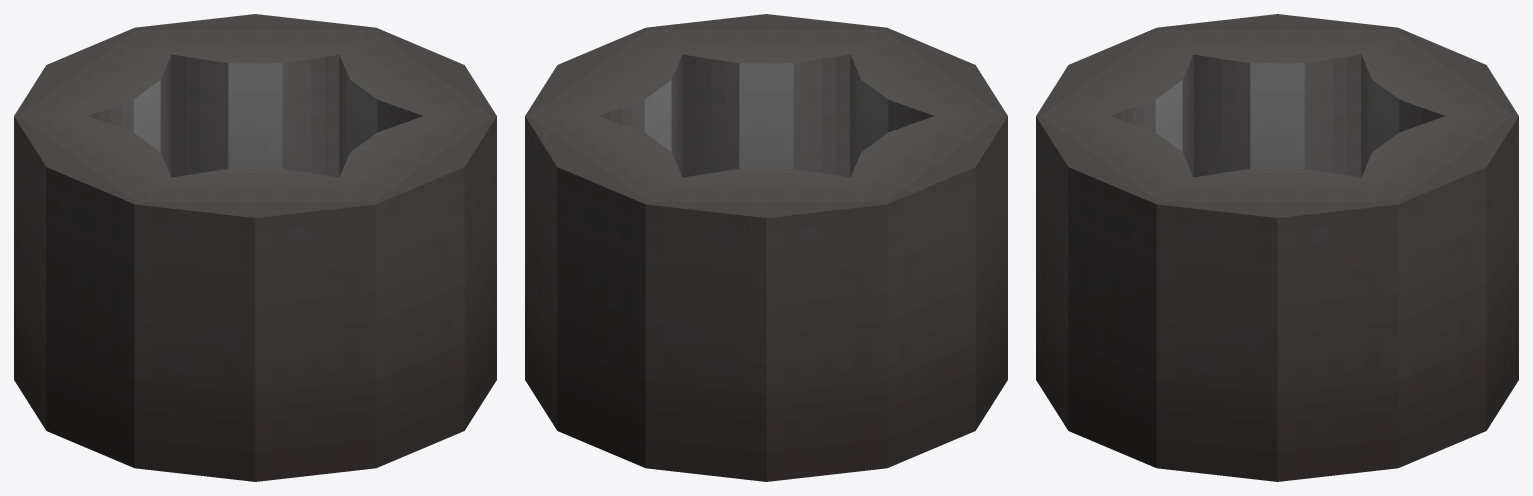
Rendered from rotary_disk.obj.
3 views of the same model, side by side, from view 1: azimuth 30°, elevation 25°; view 2: azimuth 150°, elevation 25°; view 3: azimuth 270°, elevation 25° (orthographic).
Visible parts, largest first — view 1: rotary_disk; view 2: rotary_disk; view 3: rotary_disk.
Part boxes in pixels (box(x1,y1,x2,y2)): rotary_disk: box(14, 14, 496, 481); rotary_disk: box(525, 14, 1007, 481); rotary_disk: box(1036, 14, 1518, 481).
Size of the model in its own units: 1.87 by 1.13 by 1.87.
